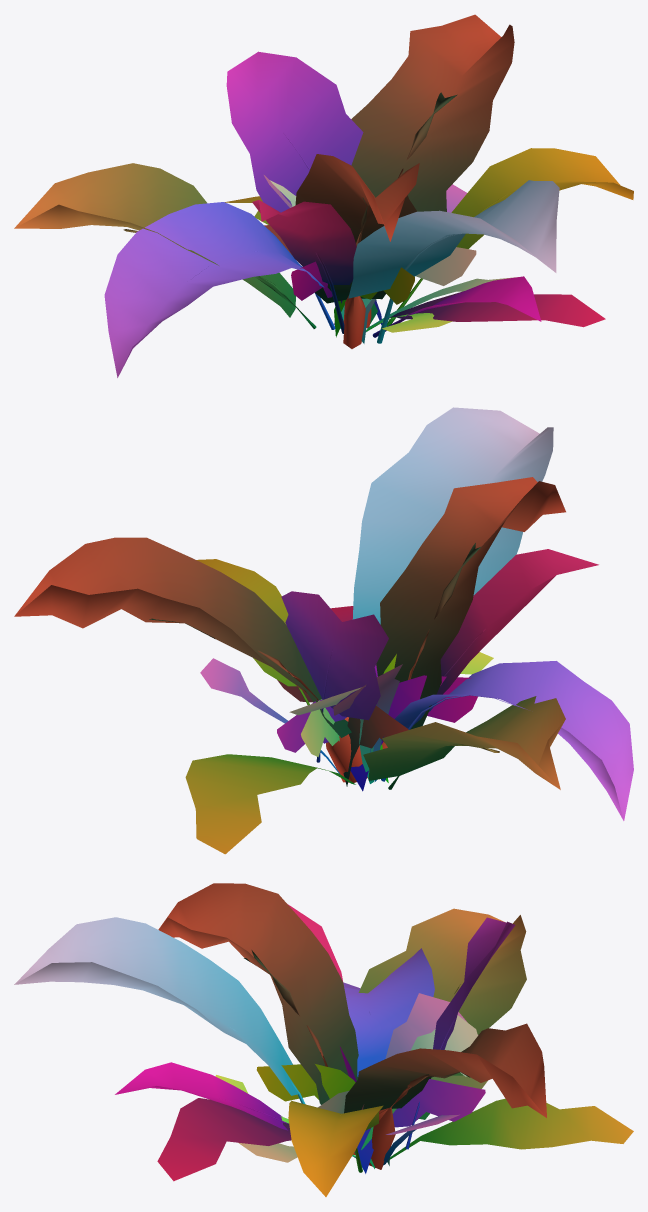
File: Lady_Fern_wdvlditia_Mid_wdvlditia_VarG_LOD0.fbx
3 renders of one model, top to bottom at view 1: azimuth 30°, elevation 25°; view 2: azimuth 150°, elevation 25°; view 3: azimuth 270°, elevation 25°, orthographic. The views are drawn at different scales.
Visible parts, largest first — view 1: _ufng_VarG_LOD2; view 2: _ufng_VarG_LOD2; view 3: _ufng_VarG_LOD2.
Part boxes in pixels (x1,y1,x2,y2): _ufng_VarG_LOD2: (14,14,633,377); _ufng_VarG_LOD2: (14,407,633,854); _ufng_VarG_LOD2: (14,883,633,1196).
Bounding box in the file's own units: 127 × 58.05 × 136.
